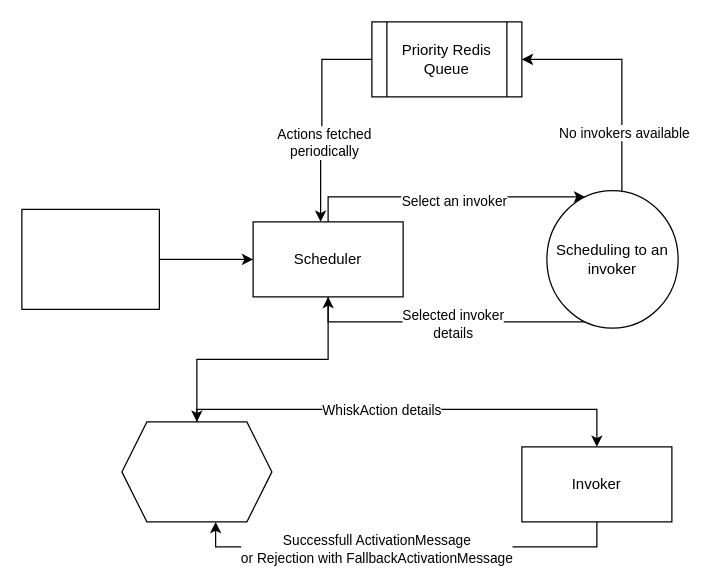
The diagram is 711 pixels wide and 586 high, and some of its shapes have lost their labels. The shapes that lost their labels are listed below. From the top down, each one's centre as x and y in pixels, then its label:
the point at 90,258: WhiskActions from Playground/CLI
the point at 196,471: Kafka Queue
